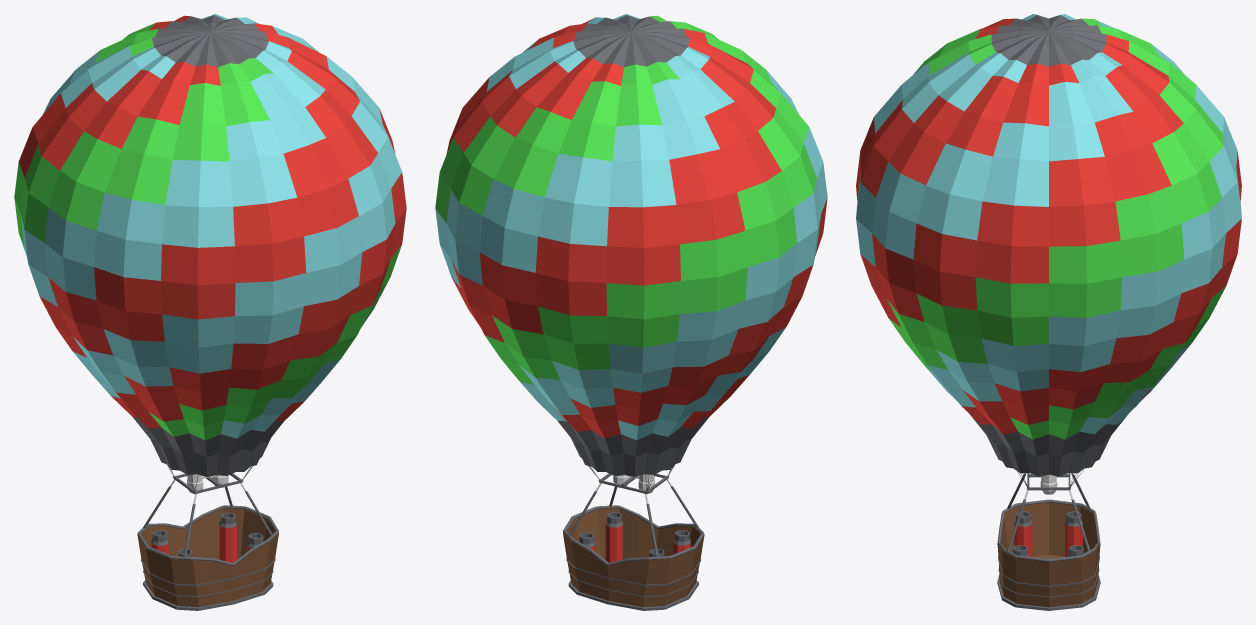
The model's file is Balloon.fbx.
3 renders of one model, left to right at view 1: azimuth 30°, elevation 25°; view 2: azimuth 150°, elevation 25°; view 3: azimuth 270°, elevation 25°, orthographic.
Parts seen in each view (by area): view 1: Balloon, Basket.000, Canisters, Ropes; view 2: Balloon, Basket.000, Canisters, Ropes; view 3: Balloon, Basket.000, Canisters, Ropes.
Part boxes in pixels (x1=…): Balloon: x1=14, y1=14, x2=406, y2=476; Basket.000: x1=137, y1=505, x2=278, y2=610; Canisters: x1=151, y1=512, x2=263, y2=562; Ropes: x1=143, y1=453, x2=273, y2=557; Balloon: x1=435, y1=14, x2=827, y2=476; Basket.000: x1=563, y1=505, x2=704, y2=610; Canisters: x1=579, y1=512, x2=690, y2=562; Ropes: x1=568, y1=465, x2=698, y2=557; Balloon: x1=856, y1=14, x2=1241, y2=476; Basket.000: x1=997, y1=499, x2=1100, y2=610; Canisters: x1=1013, y1=511, x2=1083, y2=556; Ropes: x1=1007, y1=466, x2=1090, y2=551.
Bounding box in the file's own units: 929 × 1471 × 929.
